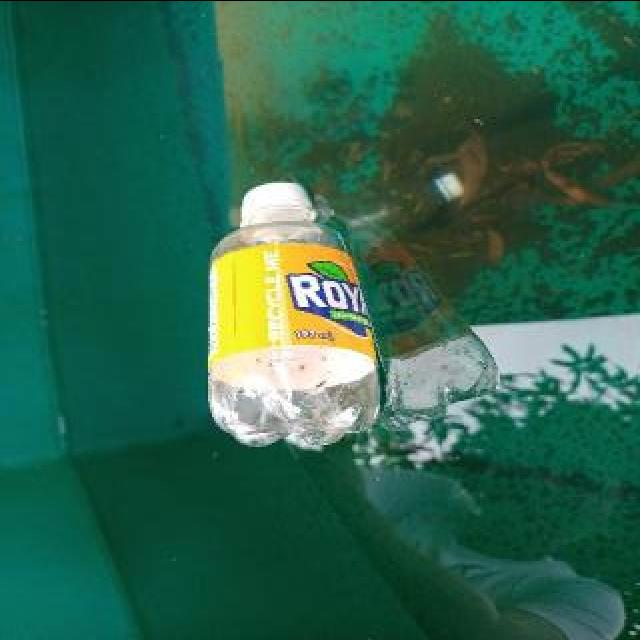Bottle: (197, 170, 387, 456)
